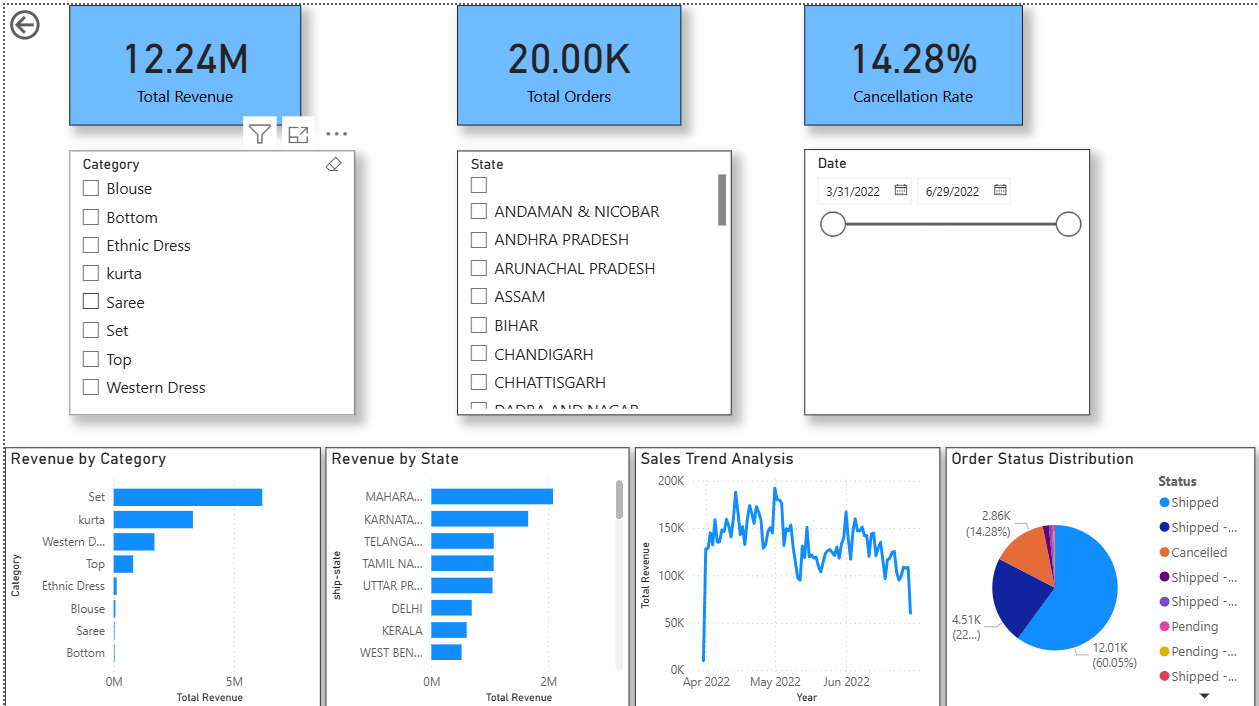

Layout of this report page (visuals, bound fields, positions):
{"tool":"powerbi","page":{"name":"Page 1","canvas":[1280,720],"ordinal":0},"visuals":[{"type":"card","fields":{"Values":["sample_data_clean.Total Revenue"]},"box":[10,0,235.7,122.9],"z":0},{"type":"card","fields":{"Values":["sample_data_clean.Total Orders"]},"box":[245.7,0,228.6,122.9],"z":1000},{"type":"card","fields":{"Values":["sample_data_clean.Cancellation Rate"]},"box":[474.3,0,222.9,122.9],"z":2000},{"type":"clusteredBarChart","fields":{"Category":["sample_data_clean.Category"],"Y":["sample_data_clean.Total Revenue"]},"box":[0,451.4,330,268.6],"z":3000},{"type":"clusteredBarChart","fields":{"Category":["sample_data_clean.ship-state"],"Y":["sample_data_clean.Total Revenue"]},"box":[330,451.4,310,268.6],"z":4000},{"type":"lineChart","fields":{"Category":["sample_data_clean.Date.Variation.Date Hierarchy.Day"],"Y":["sample_data_clean.Total Revenue"]},"box":[640,451.4,311.4,268.6],"z":5000},{"type":"pieChart","fields":{"Category":["sample_data_clean.Status"],"Y":["sample_data_clean.Total Orders"]},"box":[964.3,450,315.7,268.6],"z":6000},{"type":"slicer","fields":{"Values":["sample_data_clean.Category"]},"box":[128.6,122.9,291.4,270],"z":7000},{"type":"slicer","fields":{"Values":["sample_data_clean.ship-state"]},"box":[474.3,122.9,278.6,270],"z":8000},{"type":"slicer","fields":{"Values":["sample_data_clean.Date"]},"box":[831.4,122.9,291.4,270],"z":9000}]}

Visuals, with their boxes in screenshot pixels (x1, y1, x2, y2), scaled from the page's 1280x720 canvas onto the 1259x706 screenshot:
card - sample_data_clean.Total Revenue: box(10, 0, 242, 121)
card - sample_data_clean.Total Orders: box(242, 0, 467, 121)
card - sample_data_clean.Cancellation Rate: box(467, 0, 686, 121)
clusteredBarChart - sample_data_clean.Category x sample_data_clean.Total Revenue: box(0, 443, 325, 705)
clusteredBarChart - sample_data_clean.ship-state x sample_data_clean.Total Revenue: box(325, 443, 630, 705)
lineChart - sample_data_clean.Date.Variation.Date Hierarchy.Day x sample_data_clean.Total Revenue: box(630, 443, 936, 705)
pieChart - sample_data_clean.Status x sample_data_clean.Total Orders: box(948, 441, 1258, 705)
slicer - sample_data_clean.Category: box(126, 121, 413, 385)
slicer - sample_data_clean.ship-state: box(467, 121, 741, 385)
slicer - sample_data_clean.Date: box(818, 121, 1104, 385)
